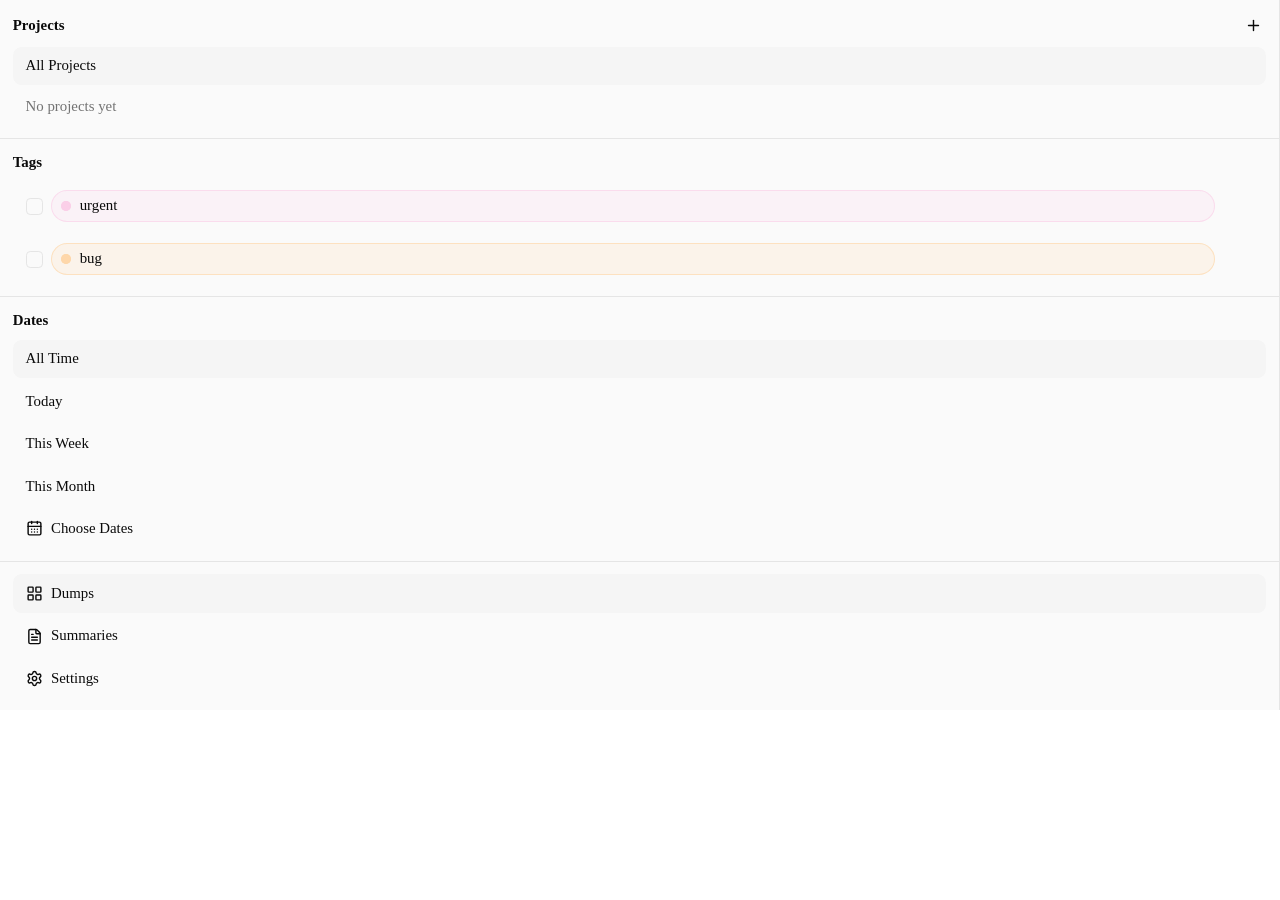
Test case: Sidebar › preserves the create-project input when creation fails
Click the button named "Create project" at (1254, 26), box [1241, 13, 1266, 38]
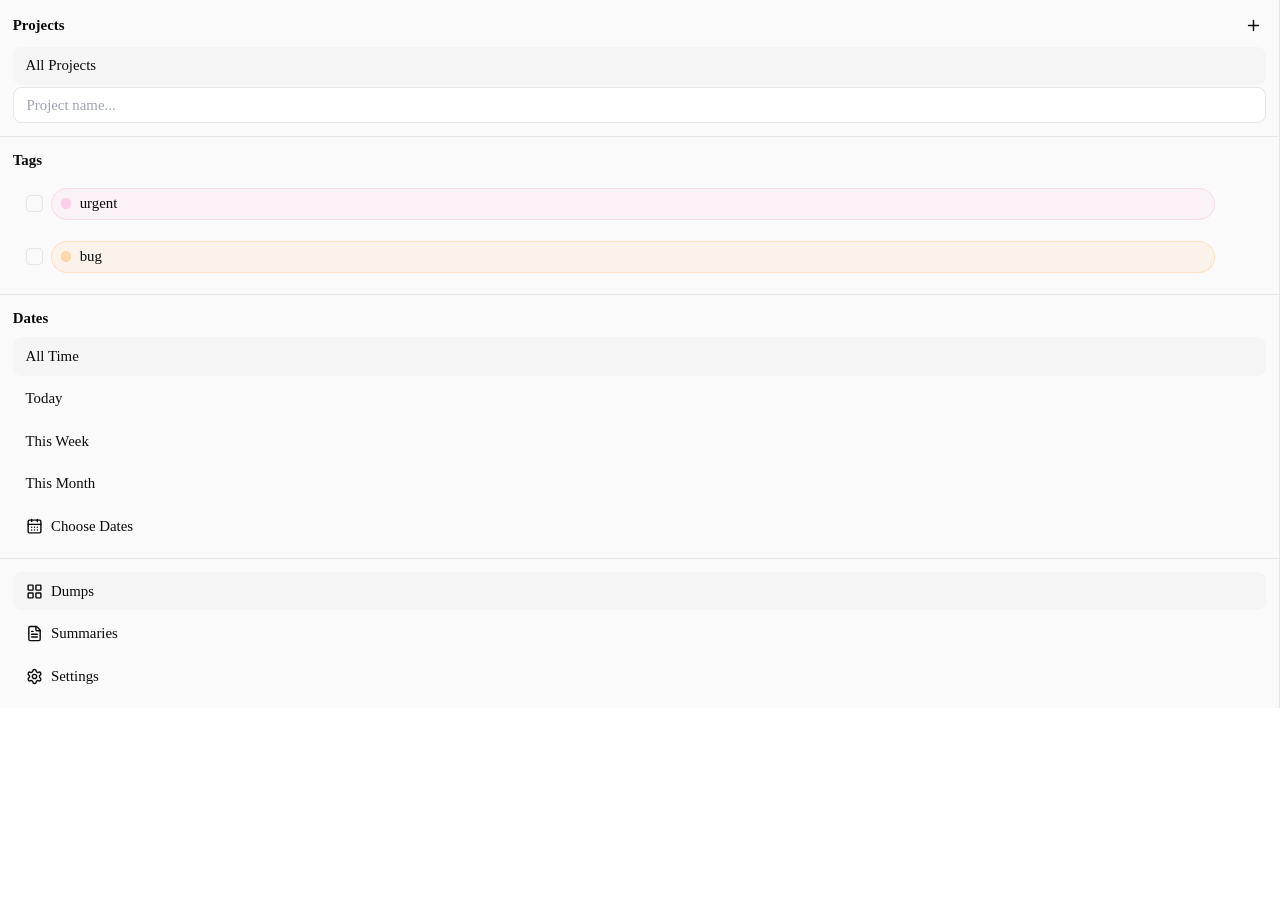
Type "Alpha" into the field with placeholder "Project name..." at (640, 105), box [13, 87, 1266, 123]
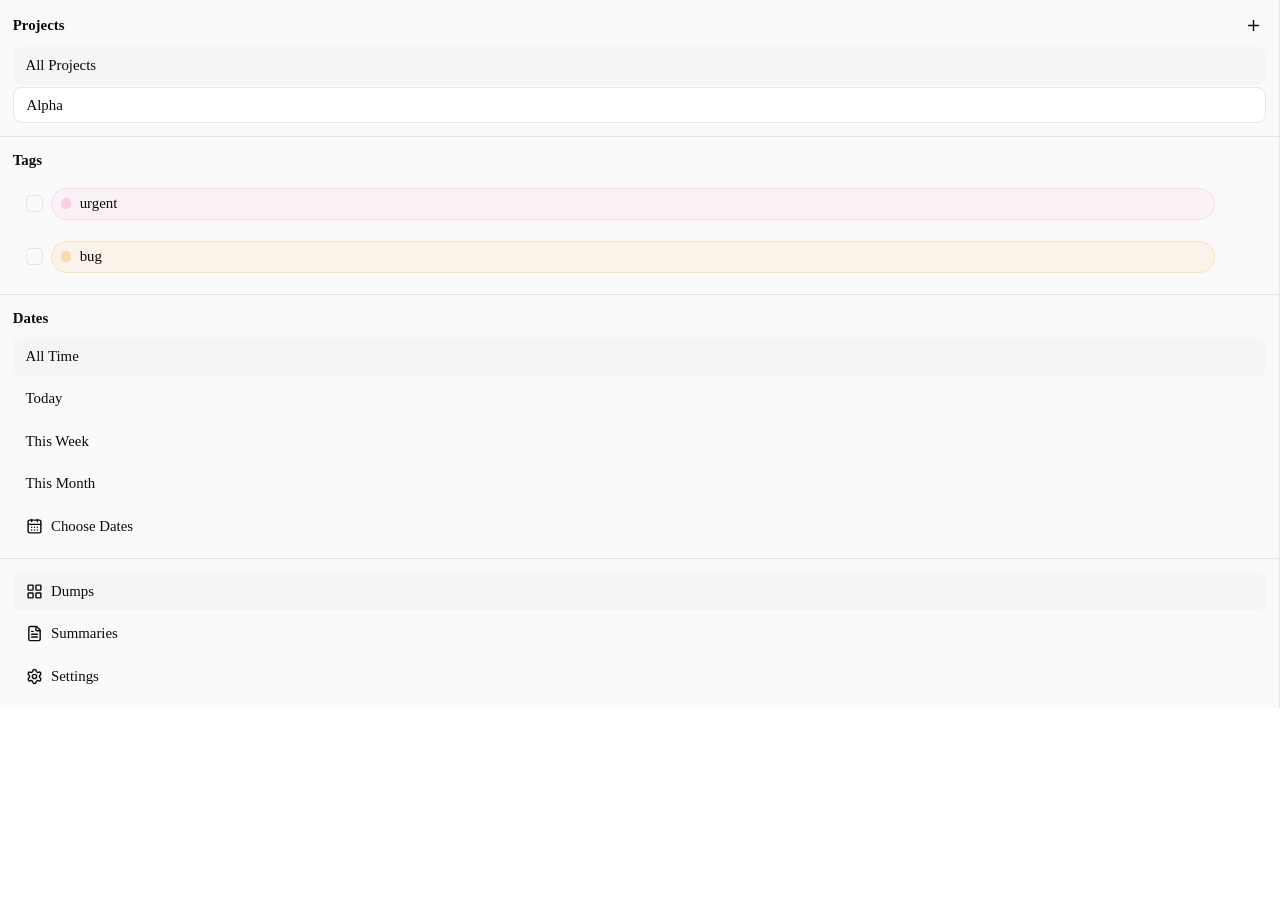
Press Enter in the field with placeholder "Project name...", box [13, 87, 1266, 123]
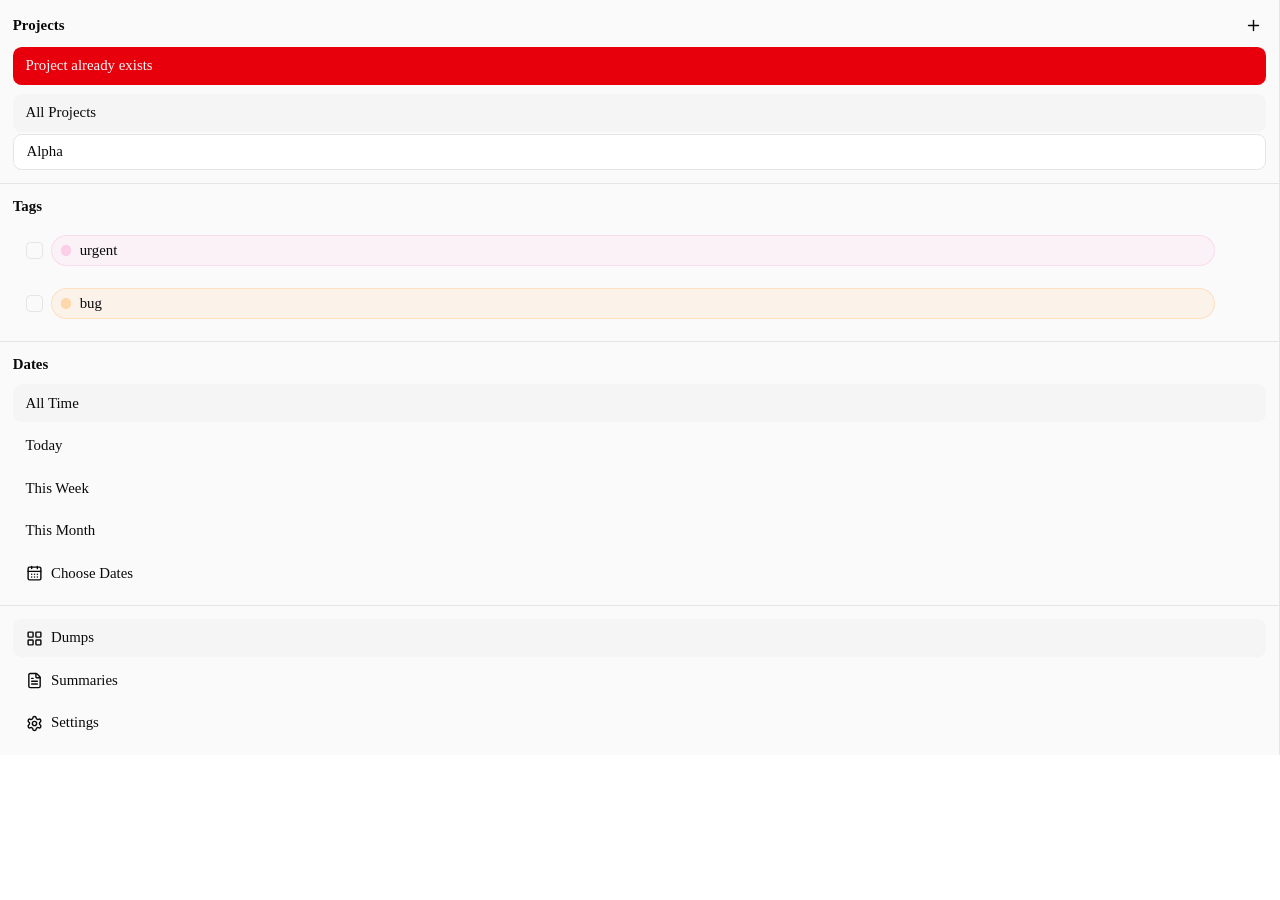
Expected: the text "Project already exists" is shown, [13, 47, 1266, 85]
